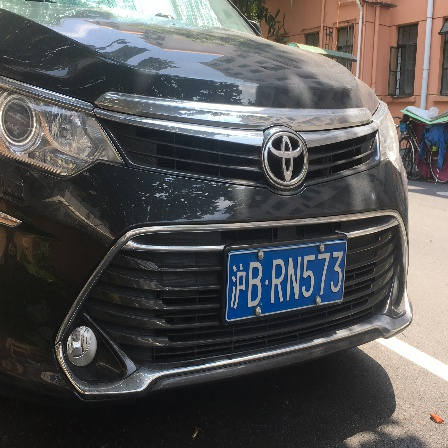plate: (224, 240, 352, 313)
